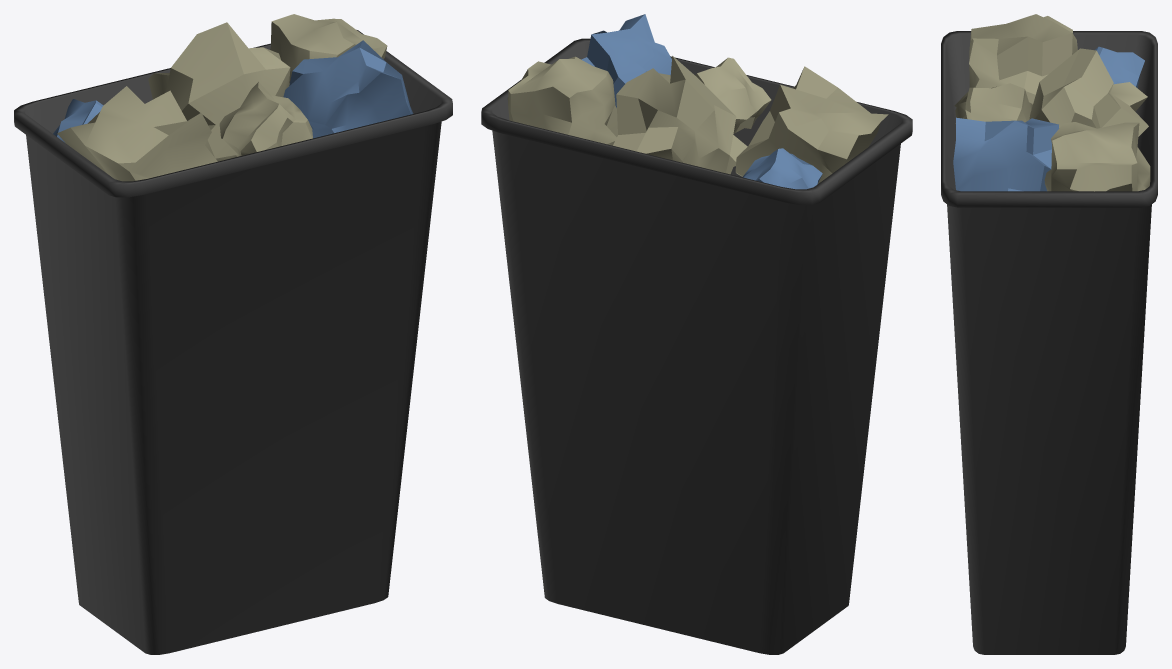
Rendered from GarbageBin.fbx.
3 renders of one model, left to right at view 1: azimuth 30°, elevation 25°; view 2: azimuth 150°, elevation 25°; view 3: azimuth 270°, elevation 25°, orthographic.
Visible parts, largest first — view 1: Garbage bin; view 2: Garbage bin; view 3: Garbage bin.
Part boxes in pixels (x1,y1,x2,y2): Garbage bin: [14, 14, 452, 654]; Garbage bin: [481, 14, 912, 654]; Garbage bin: [941, 14, 1157, 654].
Bounding box in the file's own units: 33.05 × 51.84 × 18.41.
